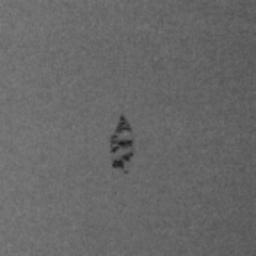Secondary rust skin: (109, 113, 135, 175)
